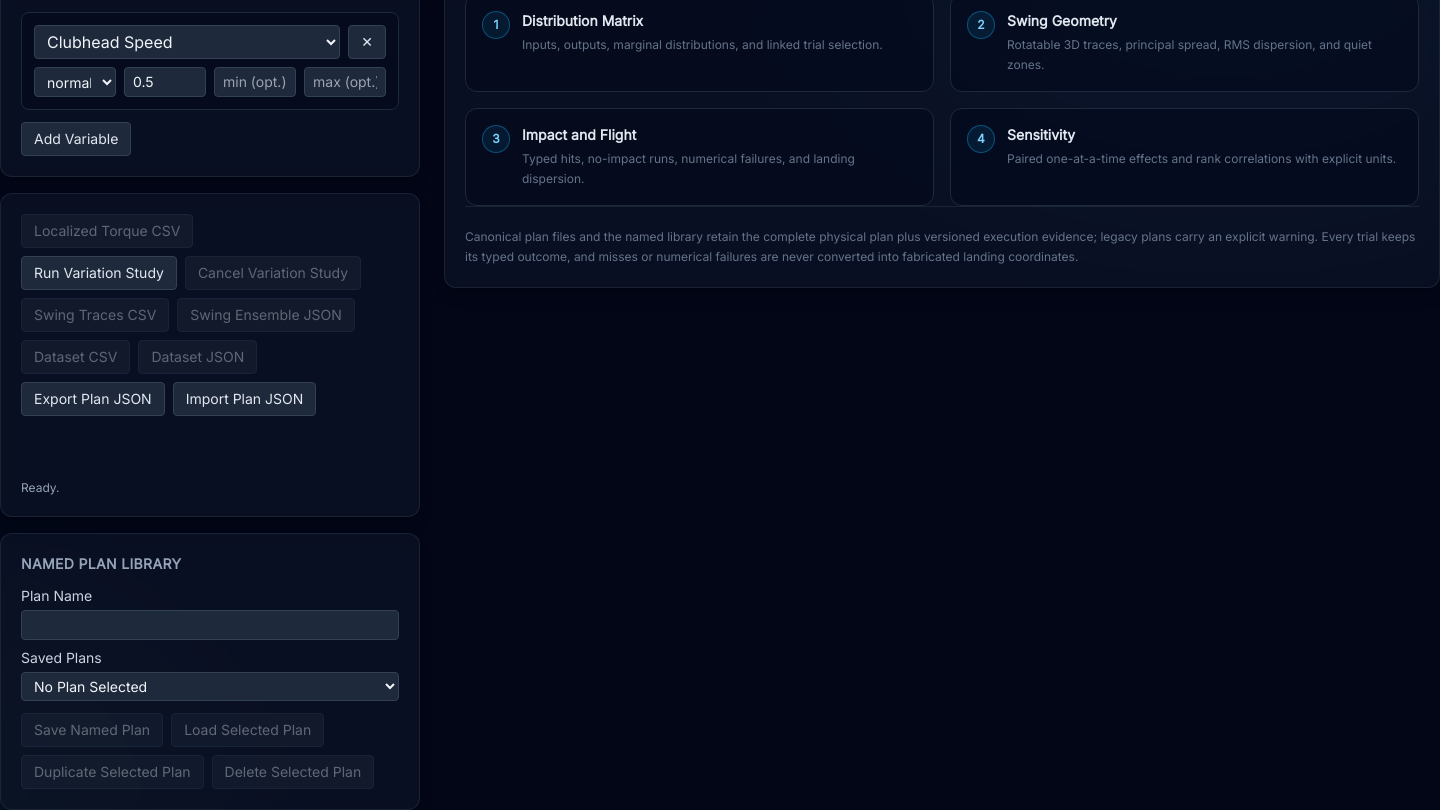
Test: VariationPanel v2 plan persistence › supports loading, duplicating, and deleting named plans
(page scrolled)
Type "Baseline" into the field labelled "Plan Name" at (210, 625), box [21, 610, 399, 640]
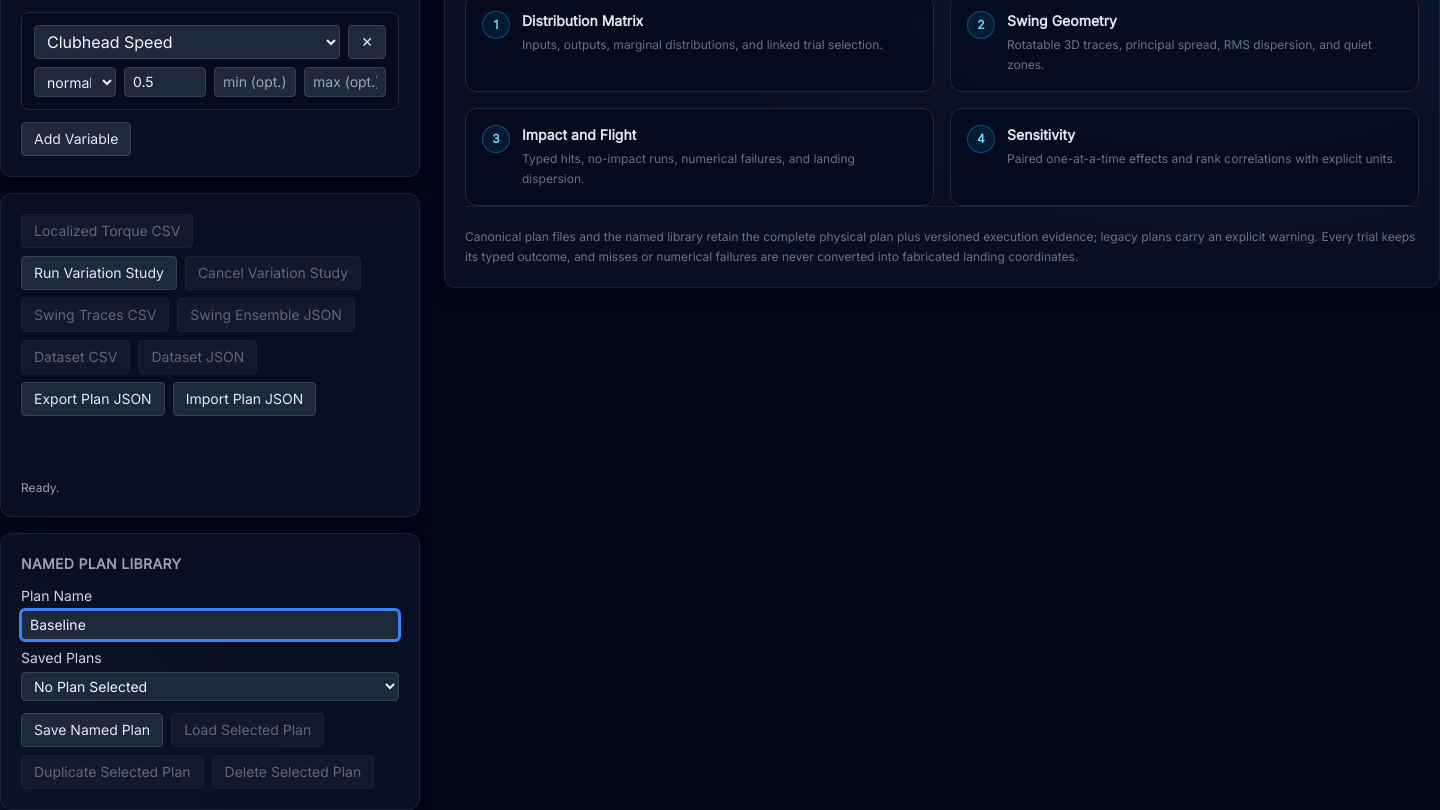
Click the button "Save Named Plan" at (92, 730), box [21, 713, 163, 747]
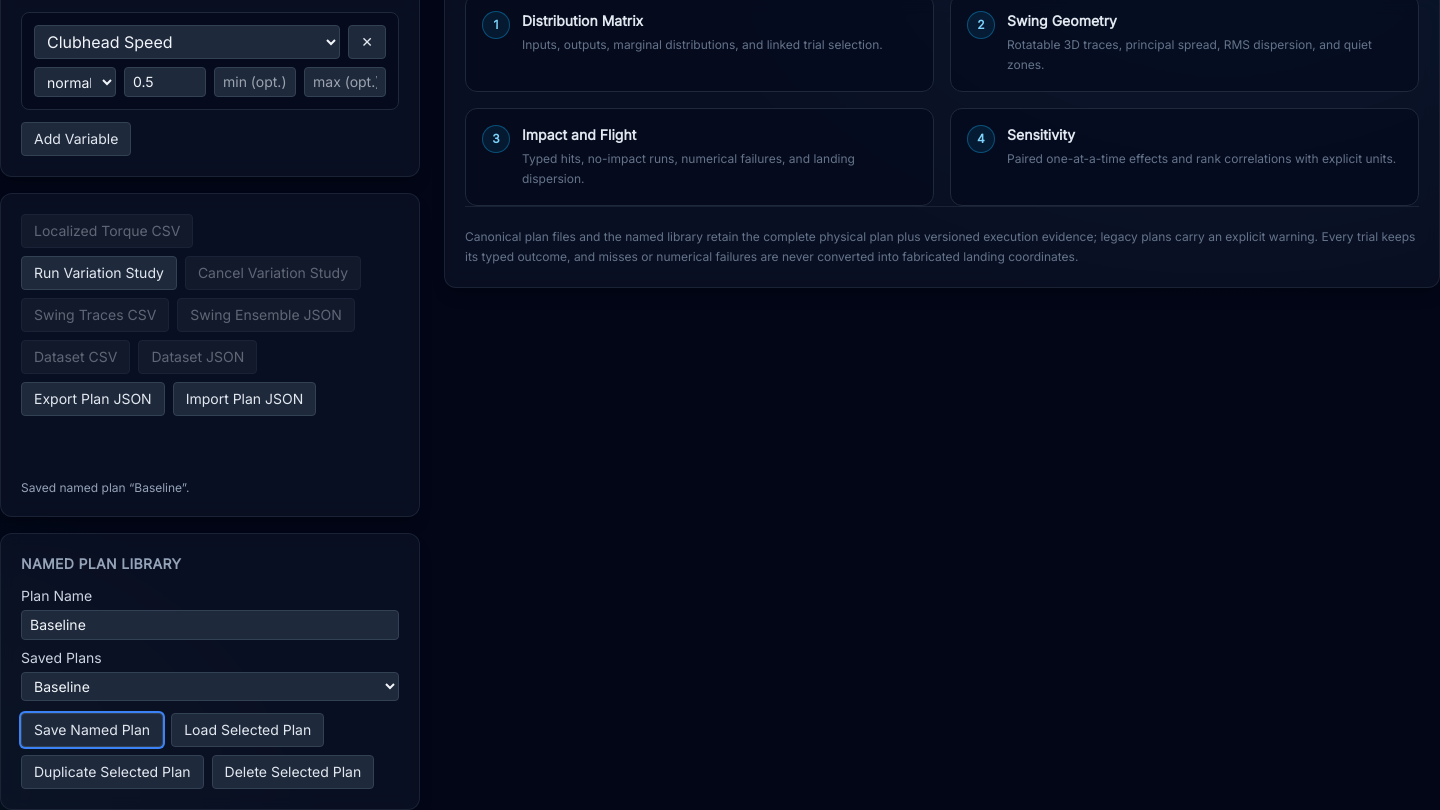
Click the button "Duplicate Selected Plan" at (112, 772), box [21, 755, 204, 789]
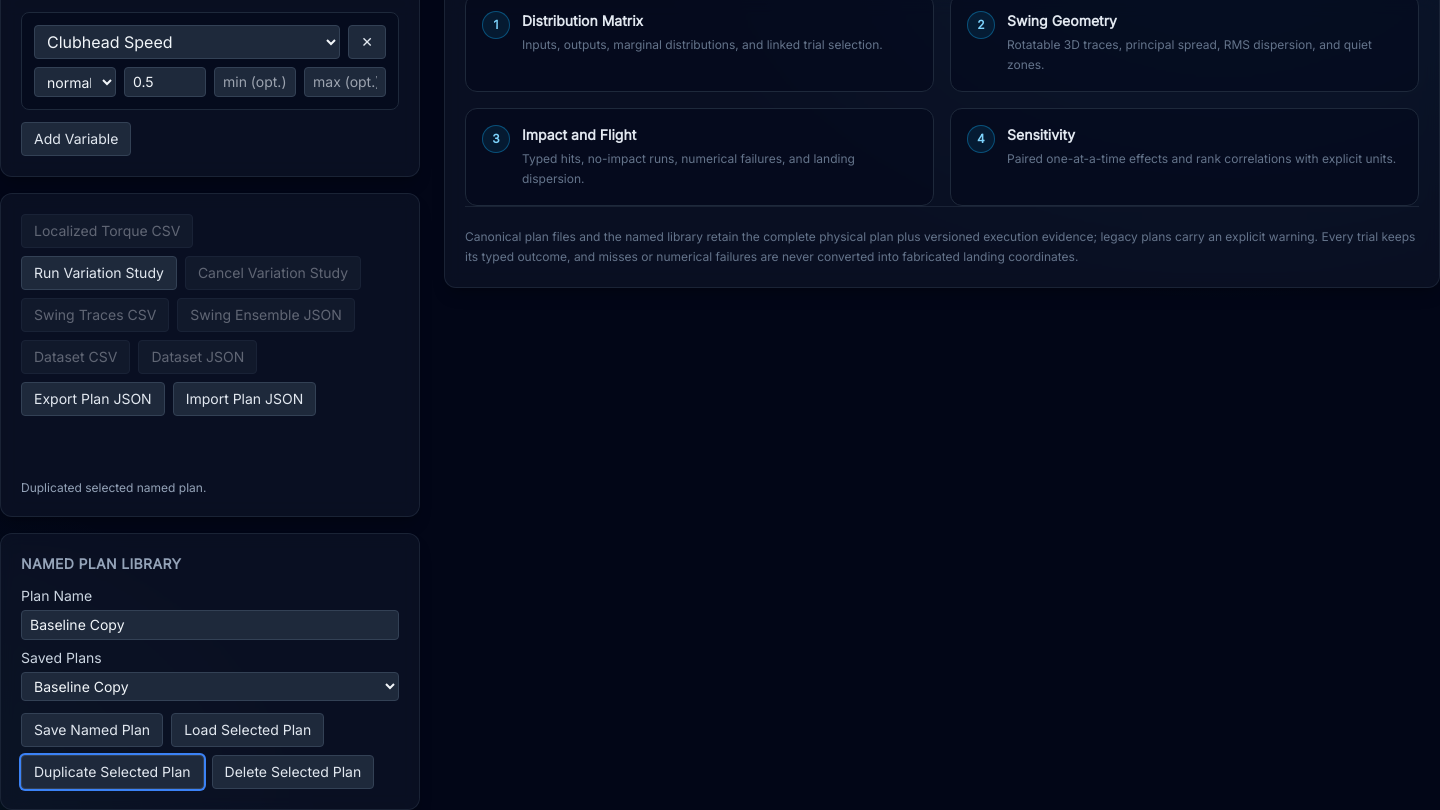
Click the button "Load Selected Plan" at (248, 730), box [171, 713, 324, 747]
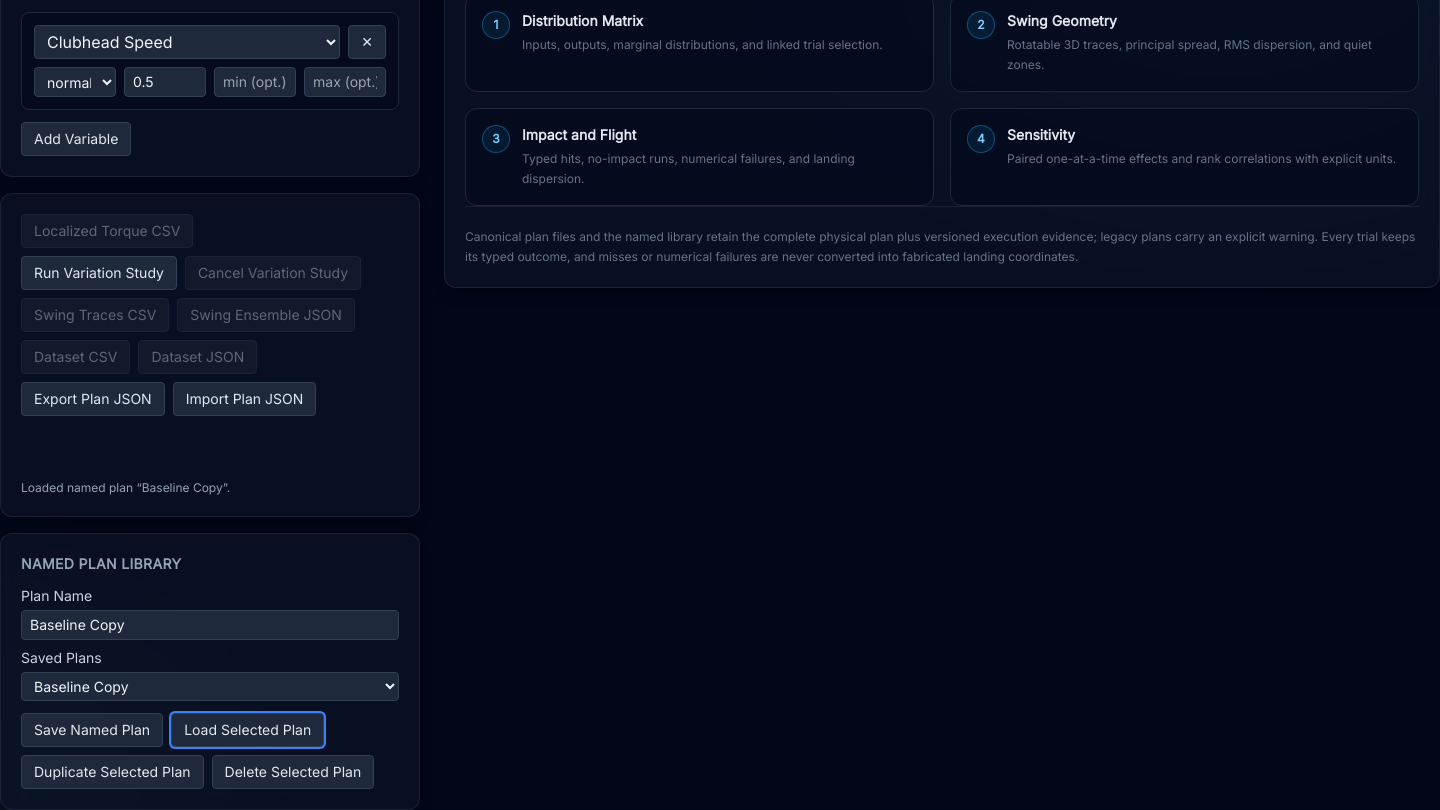
Expected: the message shows "Loaded", [21, 480, 230, 495]
Click the button "Delete Selected Plan" at (293, 772), box [212, 755, 374, 789]
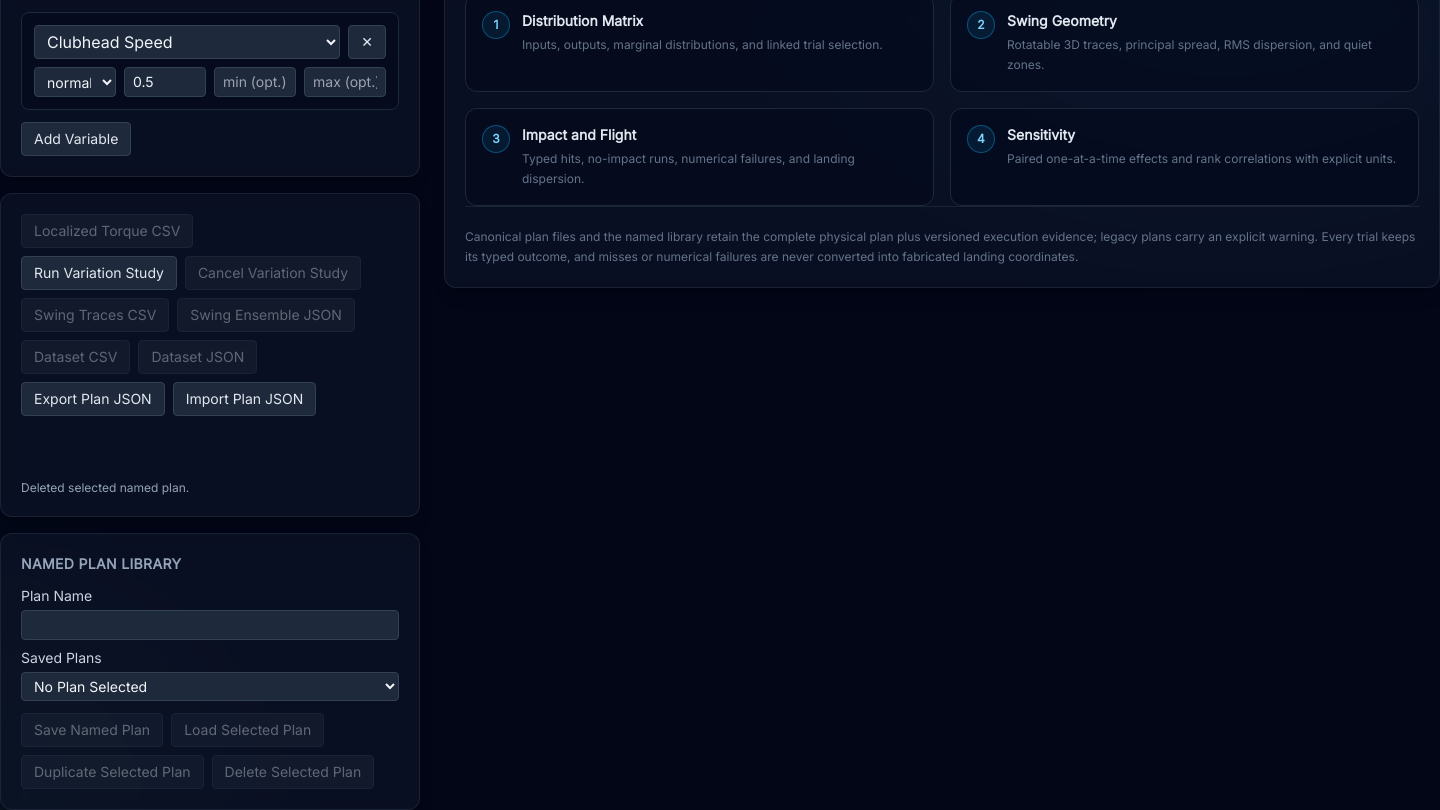
Expected: the dropdown named "Saved plan library" no longer shows "Baseline Copy", [21, 672, 399, 701]
